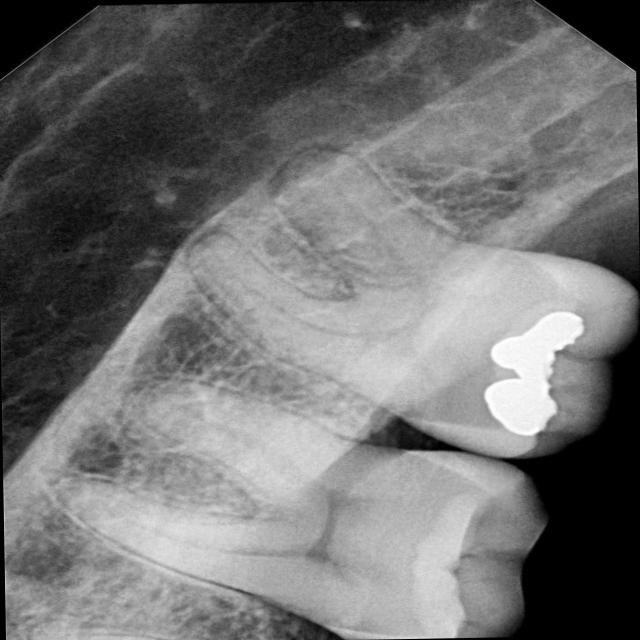Normal: (35, 343, 582, 640)
Restoration: (476, 303, 598, 440)
